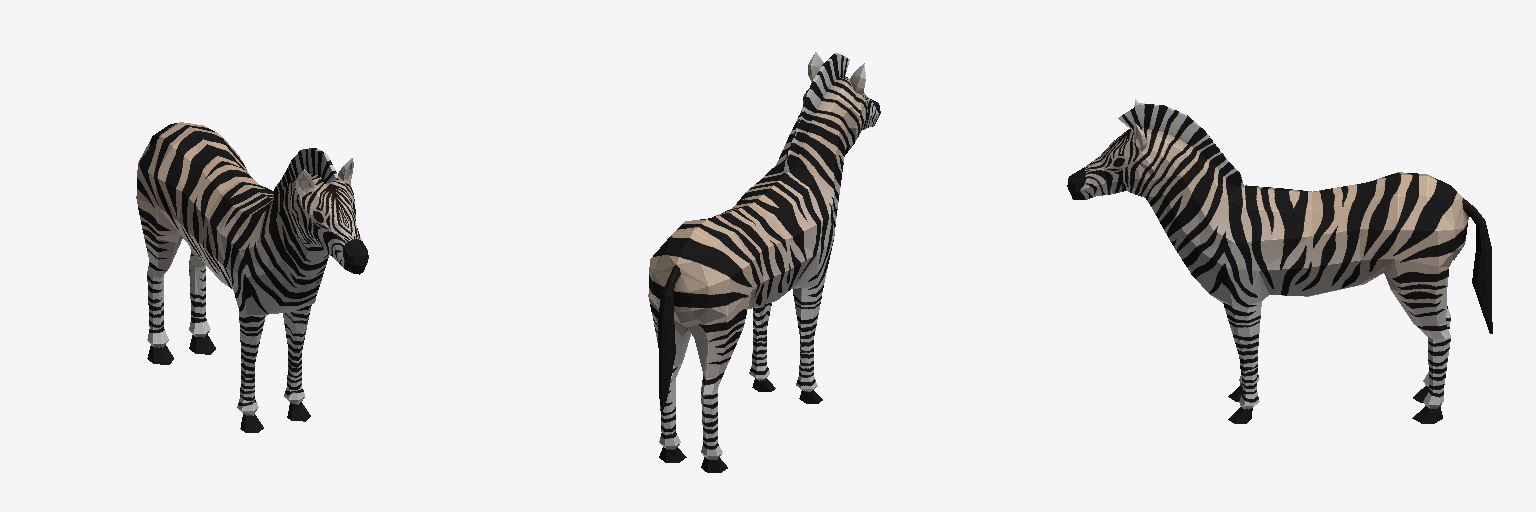
The picture shows the model from 3 angles: view 1: azimuth 30°, elevation 25°; view 2: azimuth 150°, elevation 25°; view 3: azimuth 270°, elevation 25°; orthographic projection.
Parts seen in each view (by area): view 1: Zebra_mesh; view 2: Zebra_mesh; view 3: Zebra_mesh.
Part boxes in pixels (x1,y1,x2,y2): Zebra_mesh: (136,122,368,432); Zebra_mesh: (648,52,880,472); Zebra_mesh: (1067,99,1492,423).
Bounding box in the file's own units: 3.49 × 12 × 15.2.
Materials: 1 (1 with a texture image).